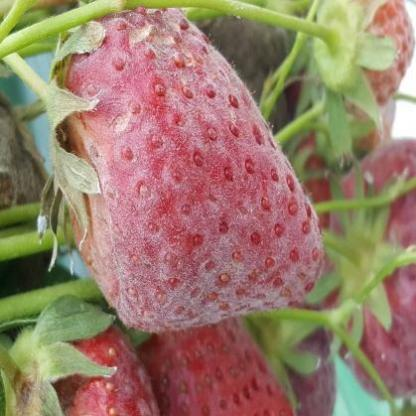Strawberry_Powdery_Mildew_Fruit: (50, 6, 327, 332), (18, 301, 161, 415)
